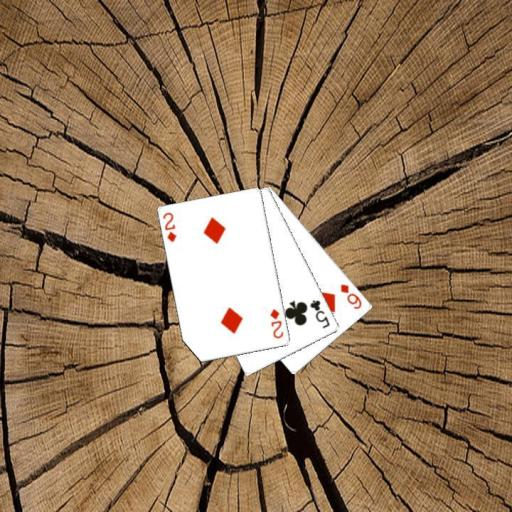2D: (160, 209, 178, 244), (268, 306, 286, 340)
5C: (308, 296, 332, 330)
6D: (338, 281, 363, 311)
